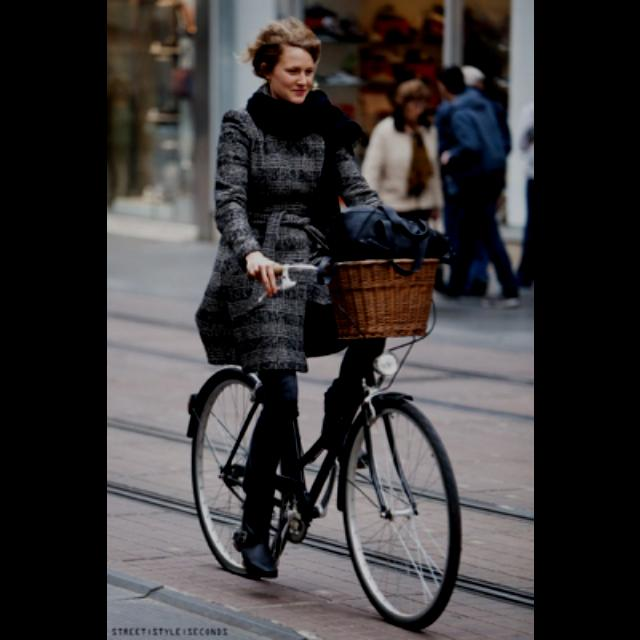Without Helmet: (244, 15, 332, 109)
